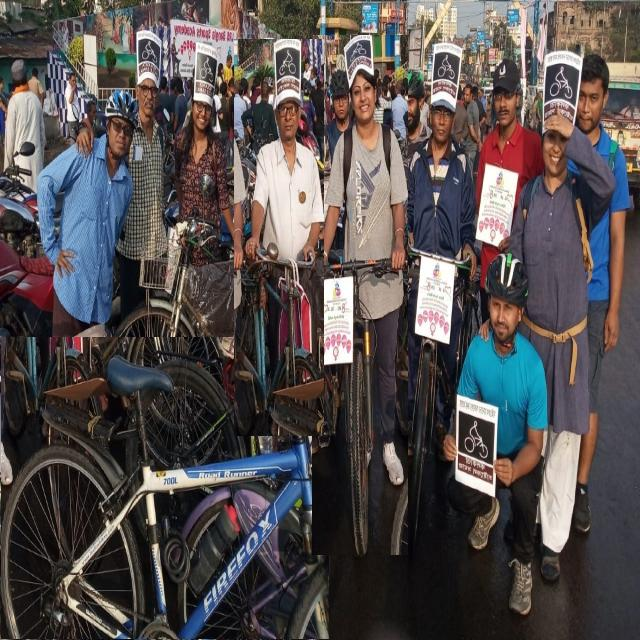bicycle: (0, 338, 329, 639), (312, 35, 408, 555), (108, 104, 254, 380), (400, 44, 476, 546), (234, 40, 324, 436)
